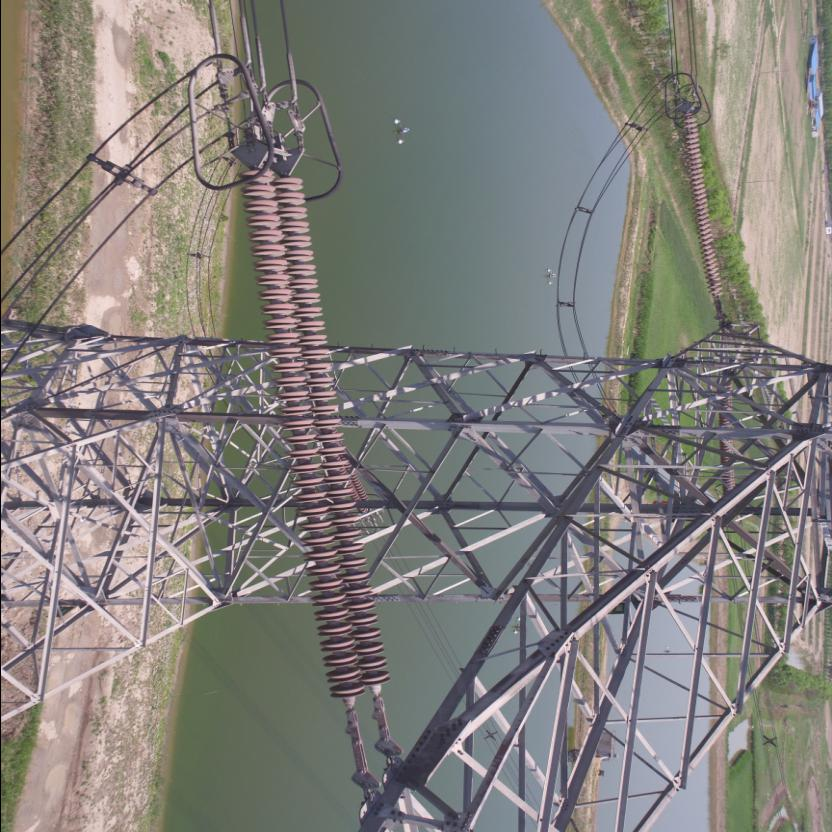insulator: (237, 154, 397, 728), (679, 107, 726, 310)
